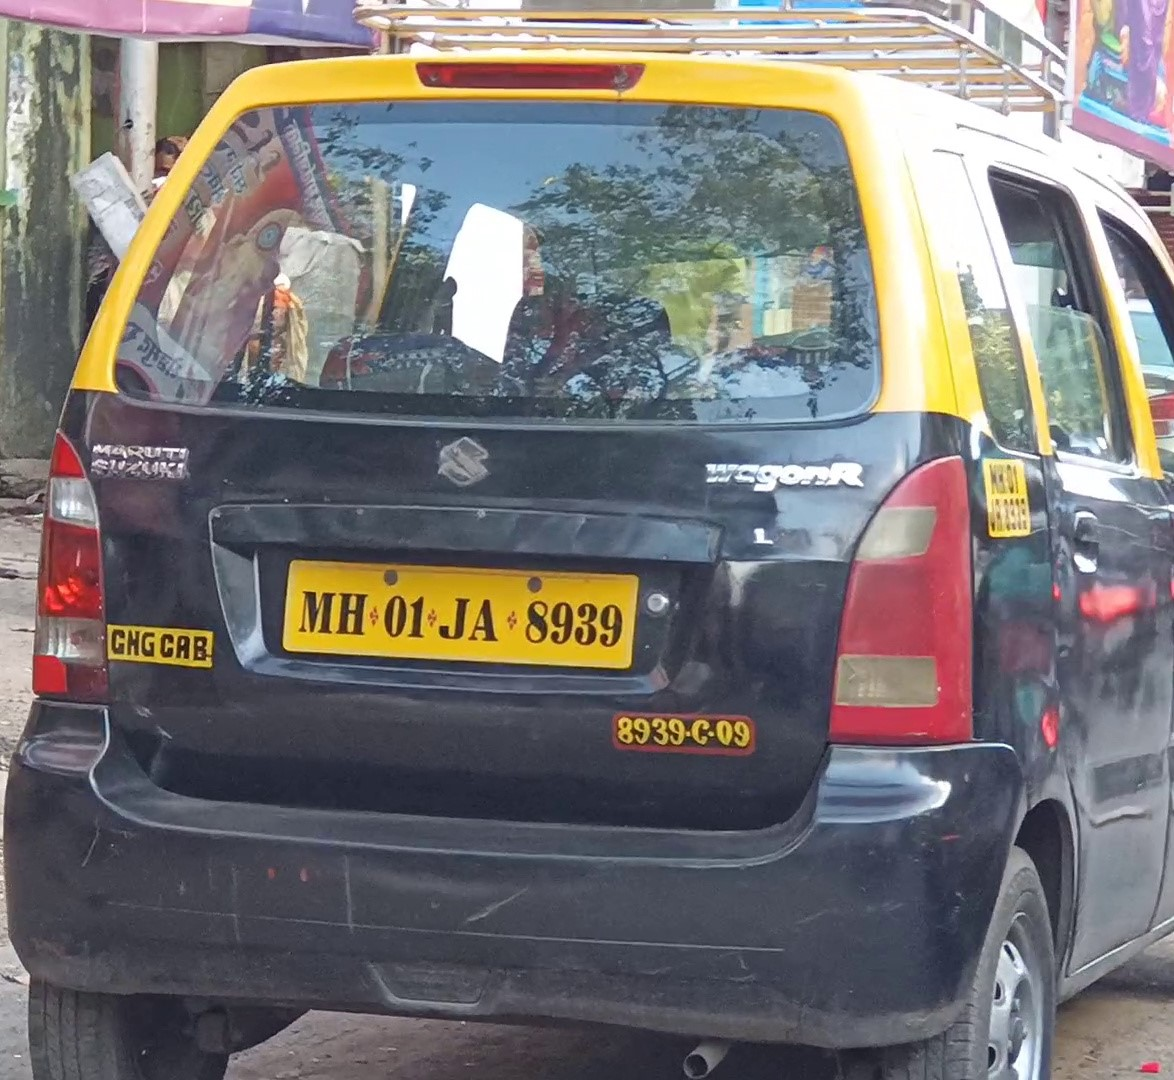MH01JA8939: (281, 558, 636, 669)
